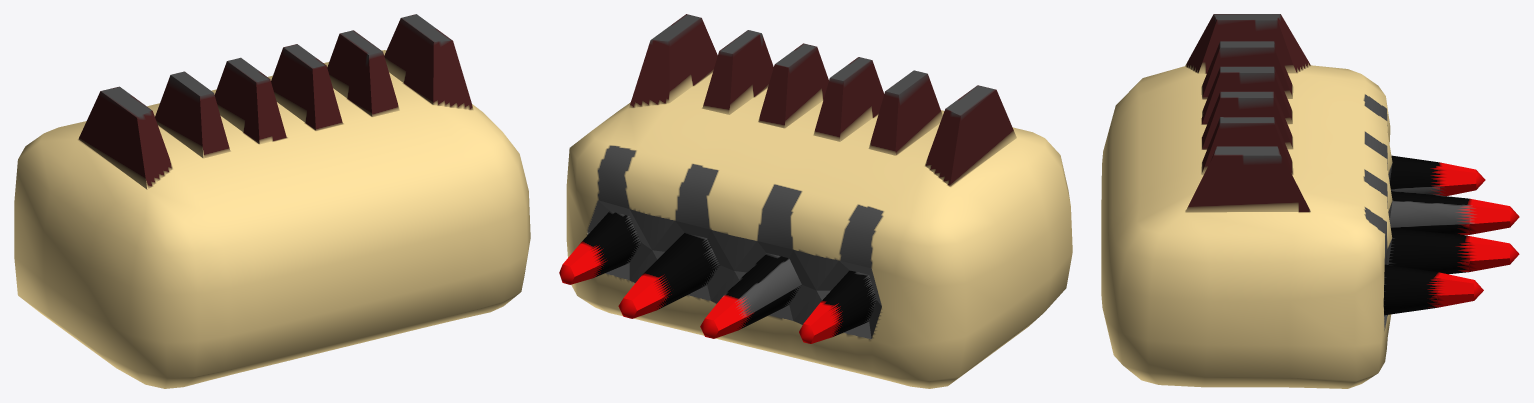
The model's file is other parts 3.FBX.
The picture shows the model from 3 angles, left to right: view 1: azimuth 30°, elevation 25°; view 2: azimuth 150°, elevation 25°; view 3: azimuth 270°, elevation 25°; orthographic projection. The views are drawn at different scales.
Visible parts, largest first — view 1: ChamferBox001; view 2: ChamferBox001; view 3: ChamferBox001.
Boxes of the visible parts, x1=… form: ChamferBox001: x1=14, y1=14, x2=530, y2=388; ChamferBox001: x1=559, y1=14, x2=1072, y2=388; ChamferBox001: x1=1101, y1=14, x2=1519, y2=388.
Size of the model in its own units: 60.74 by 34.7 by 57.08.
Materials: 1 (1 with a texture image).
